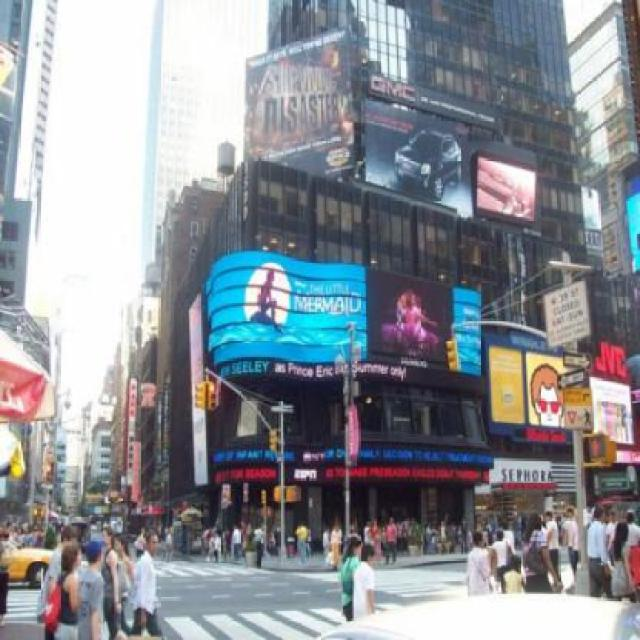Person: (0, 499, 638, 638), (43, 544, 85, 638), (102, 526, 129, 640), (78, 539, 110, 633), (462, 526, 493, 600), (339, 534, 363, 621), (492, 529, 513, 594), (503, 553, 529, 596), (483, 546, 506, 594), (542, 508, 561, 547), (293, 519, 307, 566), (256, 522, 266, 568), (232, 524, 240, 561), (165, 528, 173, 562)
